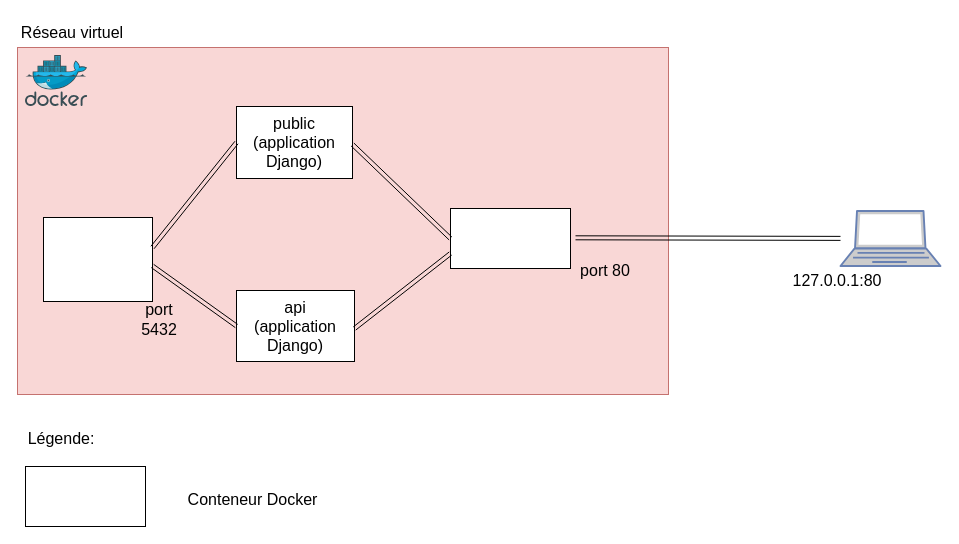
Some shapes in this 959 by 544 pixel diagram are drawn without their labels. The box of each missing label's shape, as (x1, y1, x2, y2) in pixels:
base de données (PostgreSQL): (42, 216, 152, 302)
proxy (nginx): (450, 208, 570, 268)
